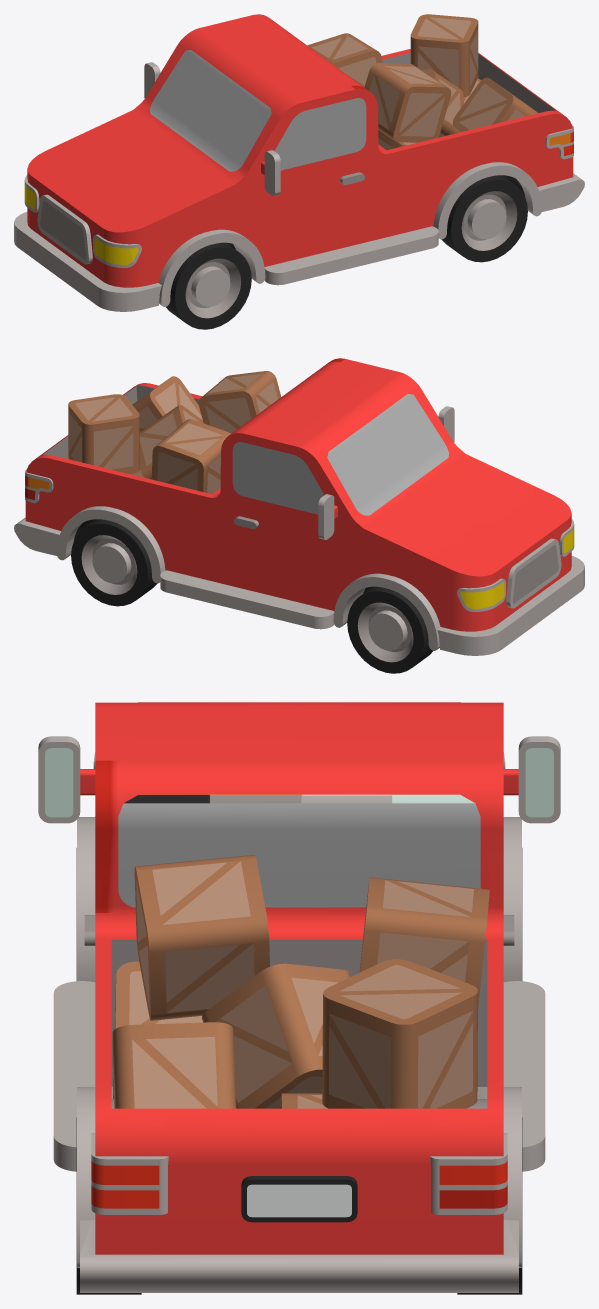
The model's file is Pickup City Mod.fbx.
3 renders of one model, top to bottom at view 1: azimuth 30°, elevation 25°; view 2: azimuth 150°, elevation 25°; view 3: azimuth 270°, elevation 25°, orthographic. The views are drawn at different scales.
Parts seen in each view (by area): view 1: Pickup, Boxes, Wheels_Front, Wheels_Back; view 2: Pickup, Boxes, Wheels_Front, Wheels_Back; view 3: Pickup, Boxes, Wheels_Back.
Boxes of the visible parts, x1,y1,x2,y2 form: Pickup: (14, 14, 584, 311); Boxes: (307, 14, 538, 150); Wheels_Front: (166, 242, 251, 329); Wheels_Back: (441, 175, 527, 262); Pickup: (14, 358, 584, 655); Boxes: (68, 371, 281, 494); Wheels_Front: (347, 586, 432, 673); Wheels_Back: (71, 519, 157, 606); Pickup: (38, 702, 560, 1292); Boxes: (112, 854, 489, 1108); Wheels_Back: (76, 1117, 522, 1294).
Bounding box in the file's own units: 1005 × 406 × 481.
